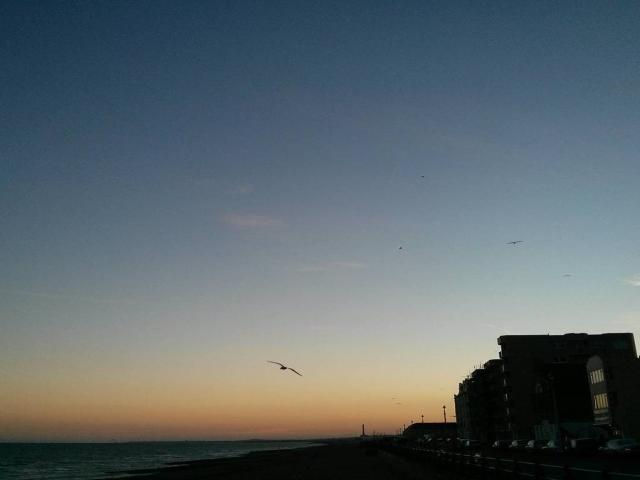Bird: (265, 356, 305, 374), (503, 235, 530, 246), (558, 273, 578, 279), (394, 243, 404, 254), (391, 402, 410, 406), (417, 175, 426, 180)
